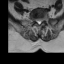CCS_stenosis: (38, 17, 40, 26)
LFS_normal: (42, 17, 44, 23)
LLS_normal: (40, 17, 42, 25)
RFS_stenosis: (34, 16, 36, 23)
RLS_normal: (36, 17, 38, 24)
